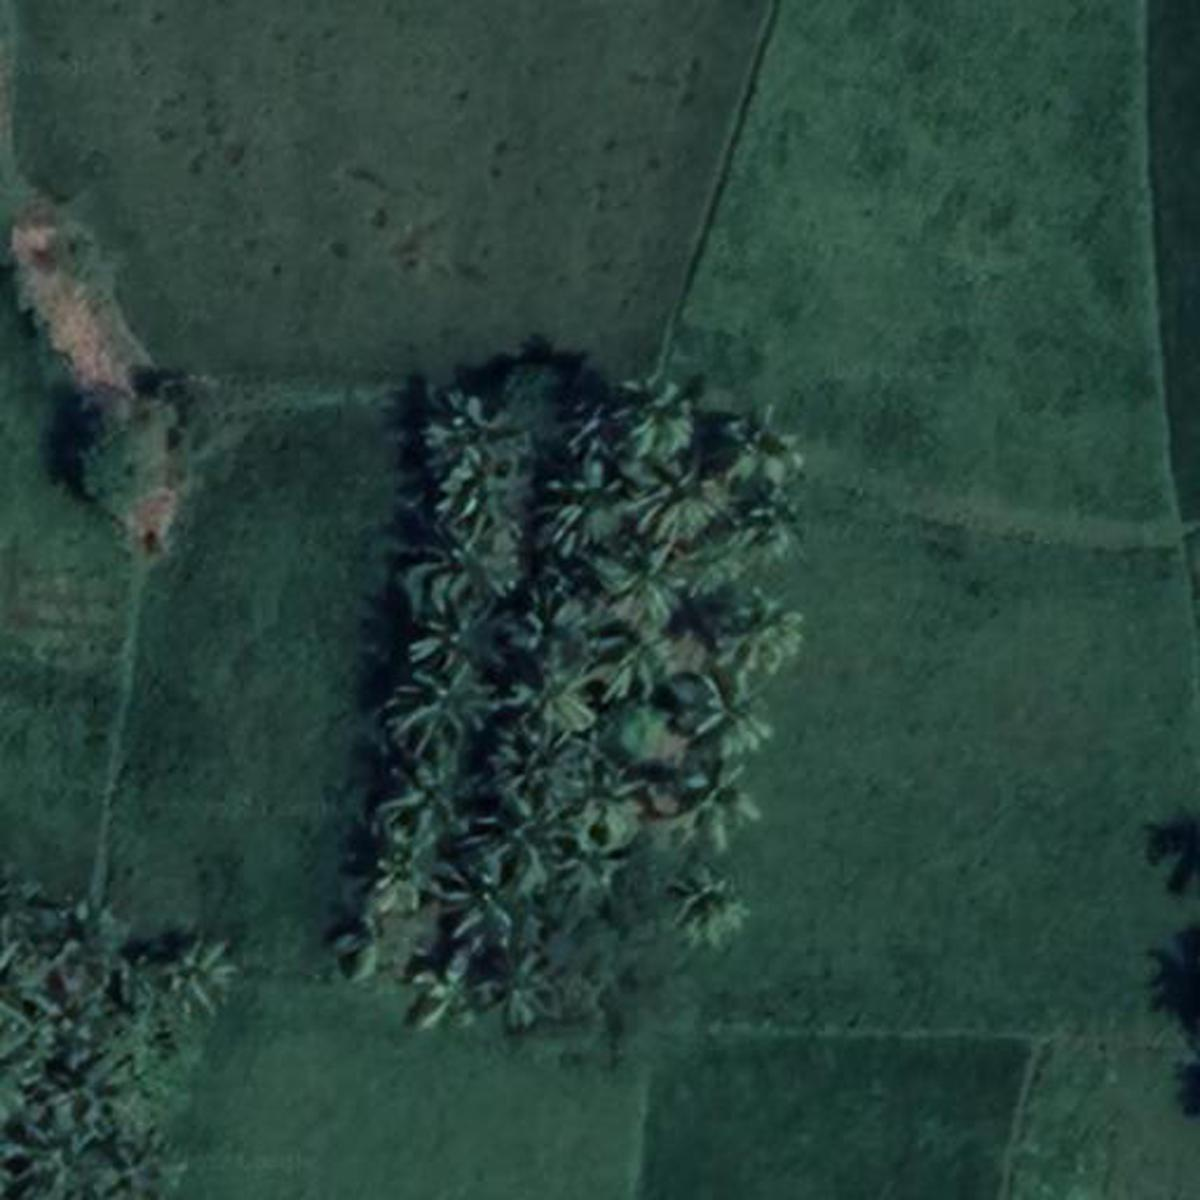coconut: (426, 400, 527, 513), (382, 665, 495, 759), (516, 646, 609, 754), (424, 843, 527, 932), (442, 508, 541, 597), (627, 462, 731, 546), (489, 731, 581, 825), (37, 900, 140, 984), (553, 462, 642, 557), (611, 373, 705, 459), (595, 534, 684, 625), (9, 1108, 105, 1190), (546, 825, 638, 909), (684, 660, 771, 747), (600, 614, 682, 703), (525, 569, 609, 656), (82, 1005, 164, 1092), (414, 581, 499, 663), (154, 937, 246, 1010), (721, 405, 796, 495), (391, 759, 475, 836), (721, 588, 810, 656), (673, 878, 757, 949), (726, 487, 808, 560), (489, 942, 553, 1035), (673, 771, 757, 841), (91, 1136, 196, 1192), (344, 909, 421, 982), (581, 759, 642, 843), (363, 838, 442, 900), (421, 965, 487, 1038)
